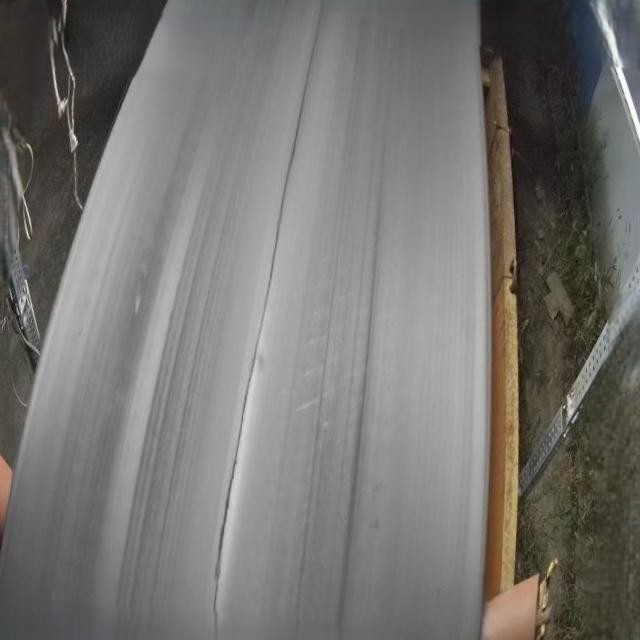Tear: (202, 53, 318, 640)
